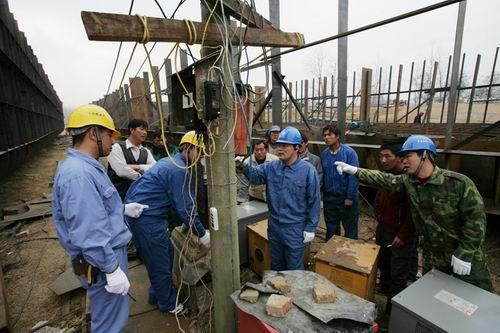head: (126, 115, 151, 144), (377, 141, 401, 171), (320, 123, 343, 148), (149, 127, 170, 149), (250, 139, 267, 162), (267, 122, 284, 142)
helmet: (62, 99, 124, 158), (396, 133, 441, 176), (276, 125, 304, 161), (178, 128, 203, 163)
